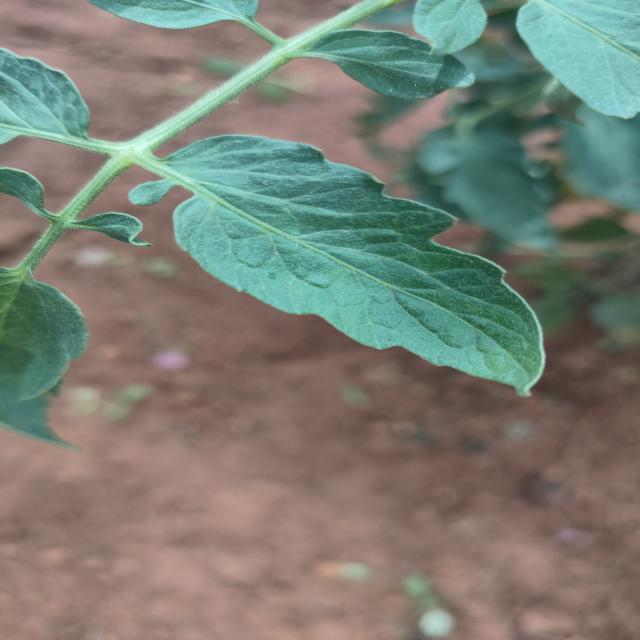tomato_healthy: (136, 133, 545, 390), (298, 28, 482, 98)
